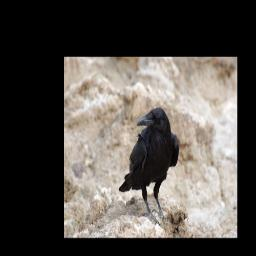Crow: (119, 107, 179, 223)
